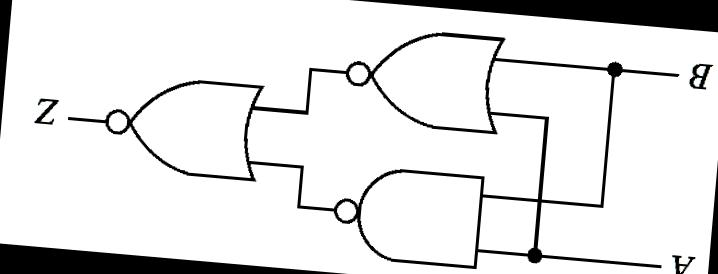nand: (320, 156, 493, 274)
nor: (332, 15, 512, 140), (91, 62, 271, 187)
